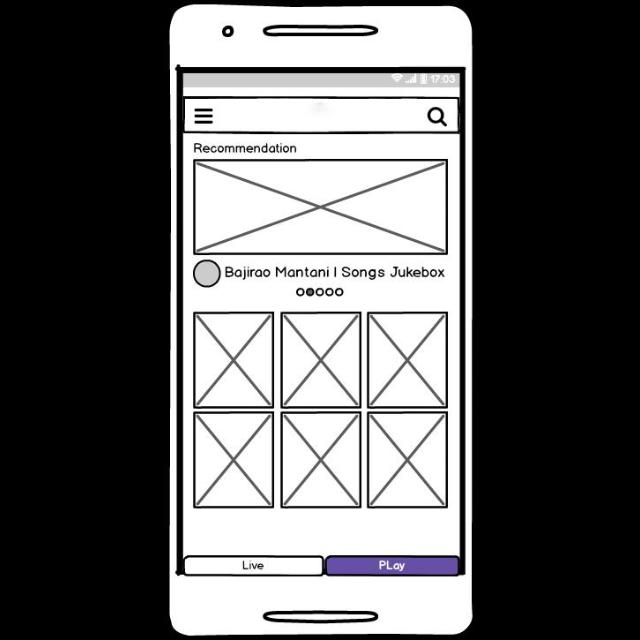icon: (194, 260, 222, 288), (428, 108, 448, 128), (194, 109, 213, 125)
image: (194, 160, 448, 256), (193, 312, 275, 408), (280, 312, 362, 408), (193, 412, 275, 508), (280, 412, 362, 508), (368, 313, 448, 409), (368, 412, 448, 508)
pageindicator: (298, 288, 344, 298)
text: (227, 266, 446, 280), (195, 143, 298, 153)
textbutton: (184, 556, 324, 576), (326, 556, 459, 576)
